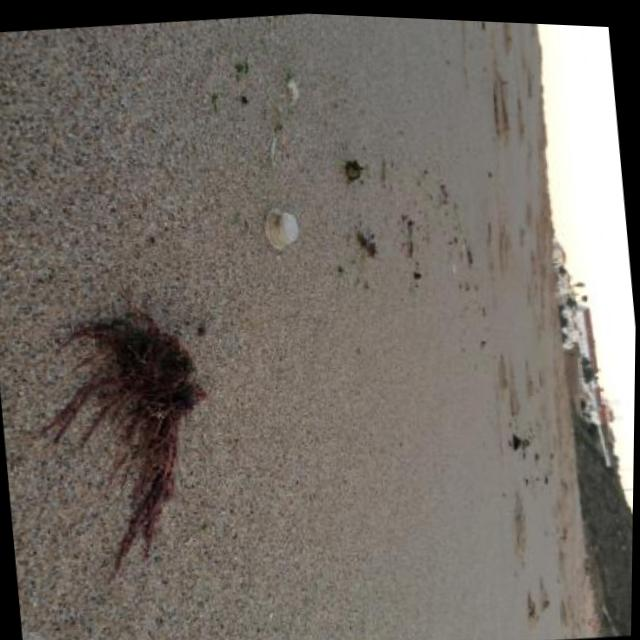plastic: (262, 206, 301, 254)
